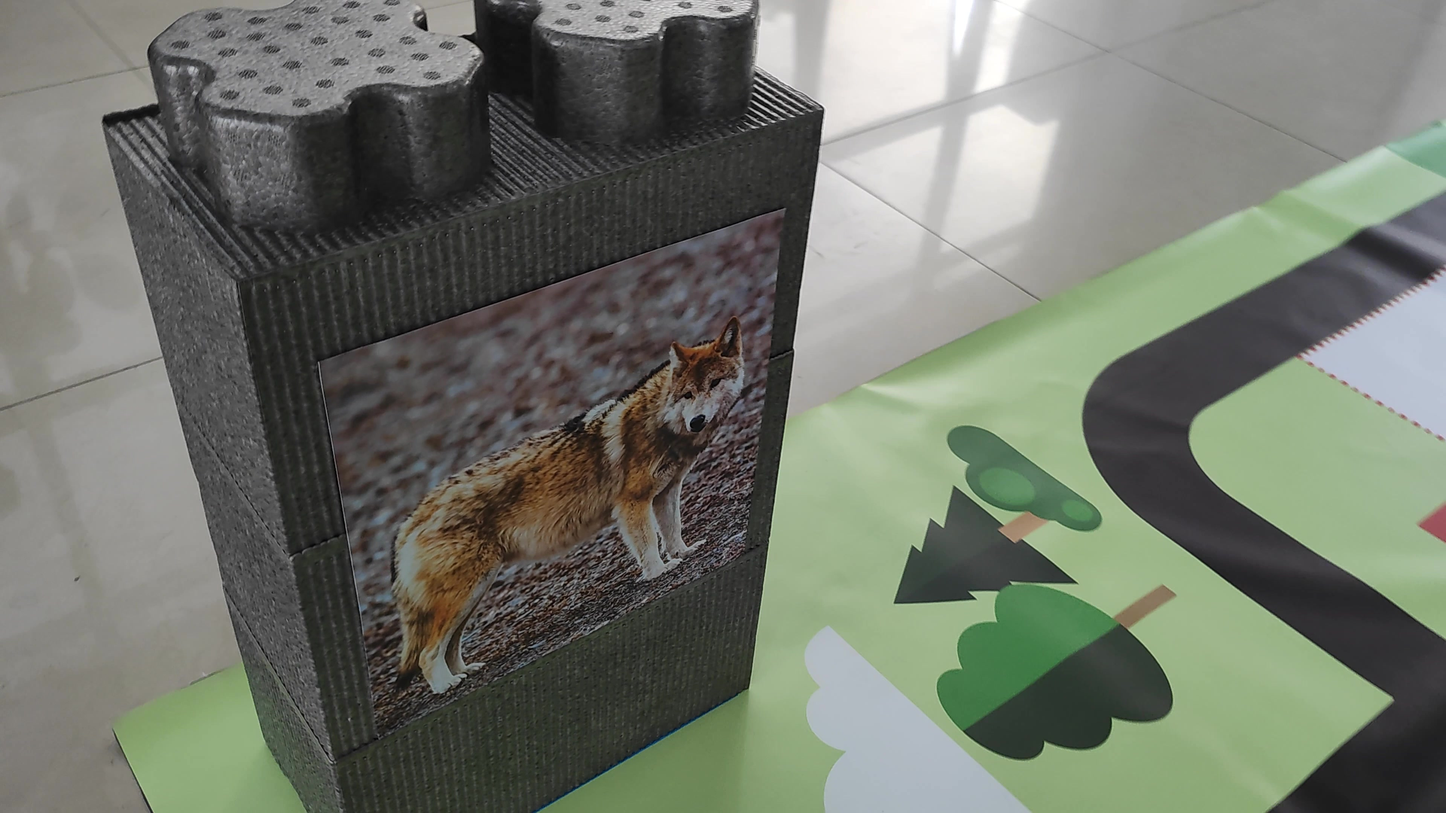wolf: (343, 312, 756, 712)
